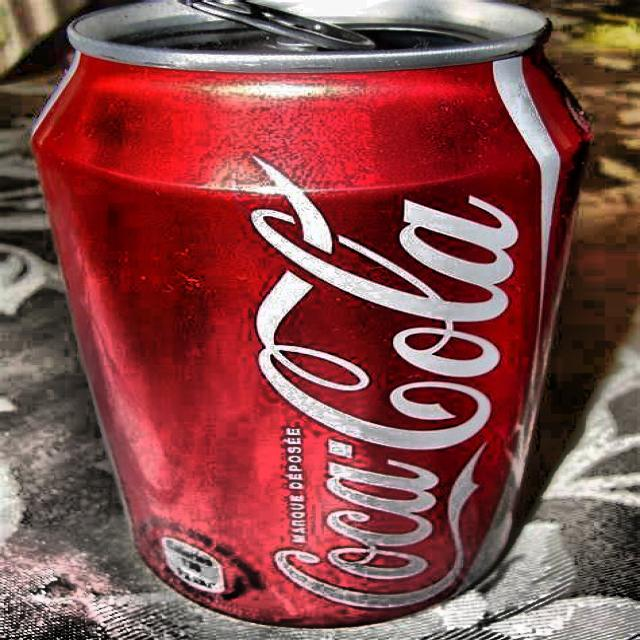Cans: (18, 0, 594, 635)
